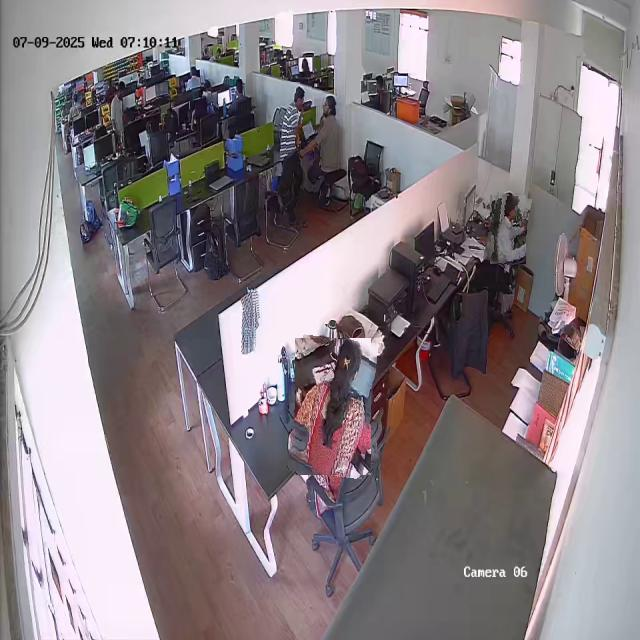person: (291, 336, 375, 477), (272, 82, 310, 228), (487, 194, 529, 265), (314, 94, 344, 173)
